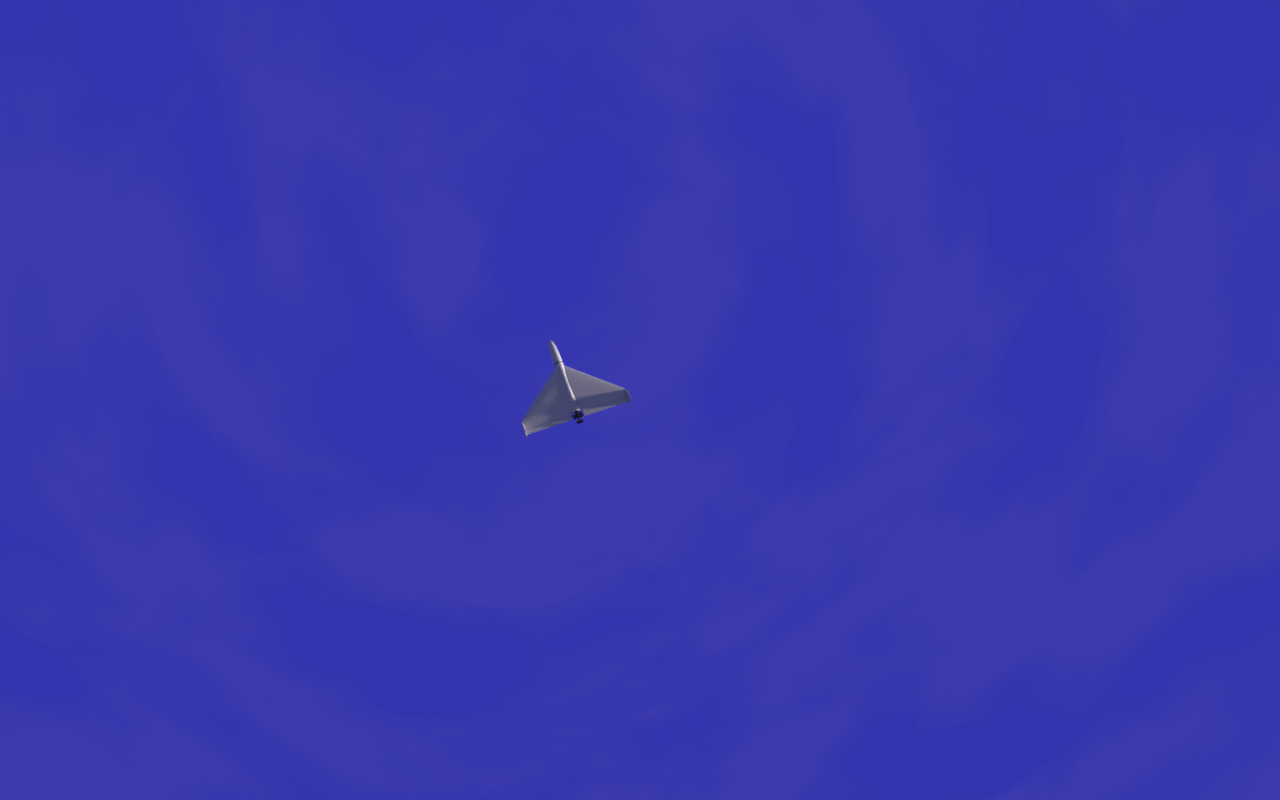shahed: (521, 340, 633, 442)
